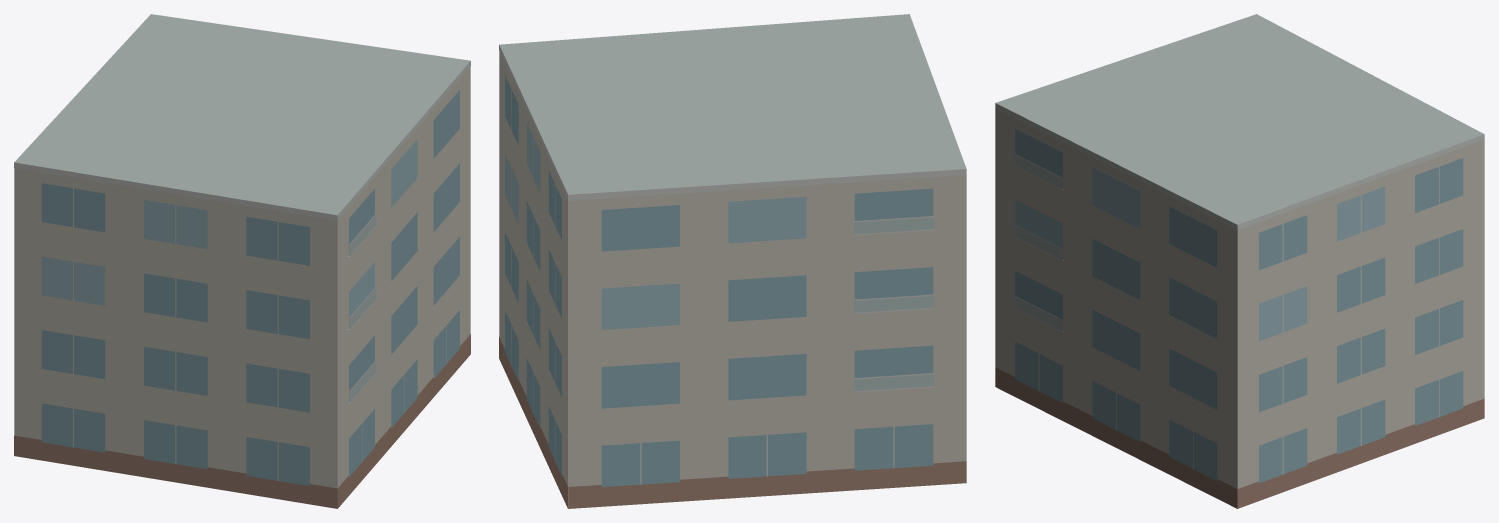
File: survey-upis-32951672.glb
3 views of the same model, side by side, from view 1: azimuth 30°, elevation 25°; view 2: azimuth 150°, elevation 25°; view 3: azimuth 270°, elevation 25° (orthographic). The views are drawn at different scales.
Visible parts, largest first — view 1: survey-upis-32951672.tmp; view 2: survey-upis-32951672.tmp; view 3: survey-upis-32951672.tmp.
Part boxes in pixels (bbox=[...]): survey-upis-32951672.tmp: bbox=[14, 14, 470, 508]; survey-upis-32951672.tmp: bbox=[499, 14, 966, 508]; survey-upis-32951672.tmp: bbox=[995, 14, 1484, 508].
Bounding box in the file's own units: 20.39 × 12.8 × 20.
